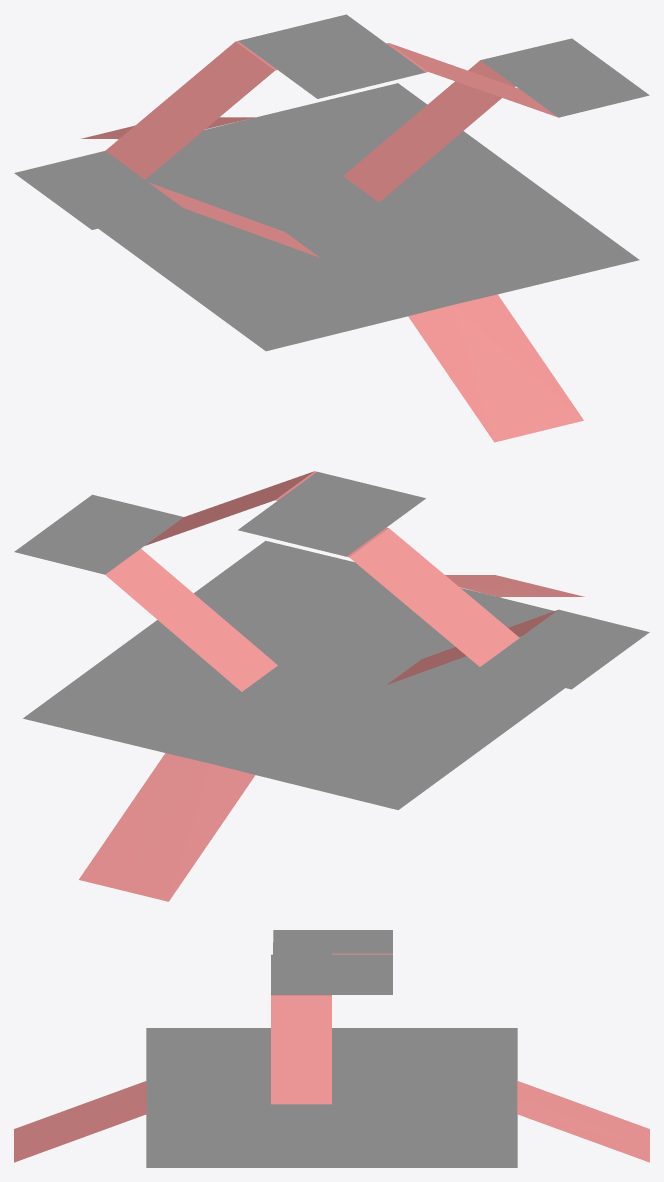
Rendered from L2fortress_02_s__Fort02_archer02.gltf.
3 renders of one model, top to bottom at view 1: azimuth 30°, elevation 25°; view 2: azimuth 150°, elevation 25°; view 3: azimuth 270°, elevation 25°, orthographic. The views are drawn at different scales.
Visible parts, largest first — view 1: Fort02_archer02; view 2: Fort02_archer02; view 3: Fort02_archer02.
Part boxes in pixels (bbox=[...]): Fort02_archer02: bbox=[14, 14, 649, 442]; Fort02_archer02: bbox=[14, 471, 649, 901]; Fort02_archer02: bbox=[14, 930, 649, 1167].
Bounding box in the file's own units: 7.44 × 2.85 × 9.6.
